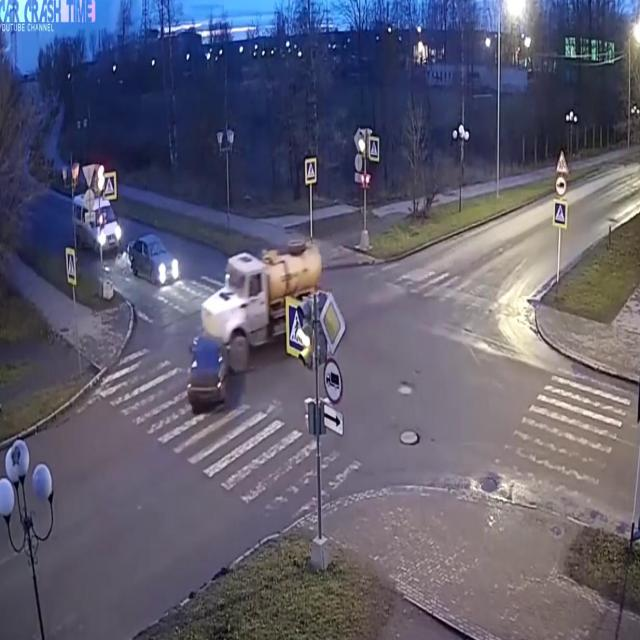accident: (176, 222, 350, 426)
